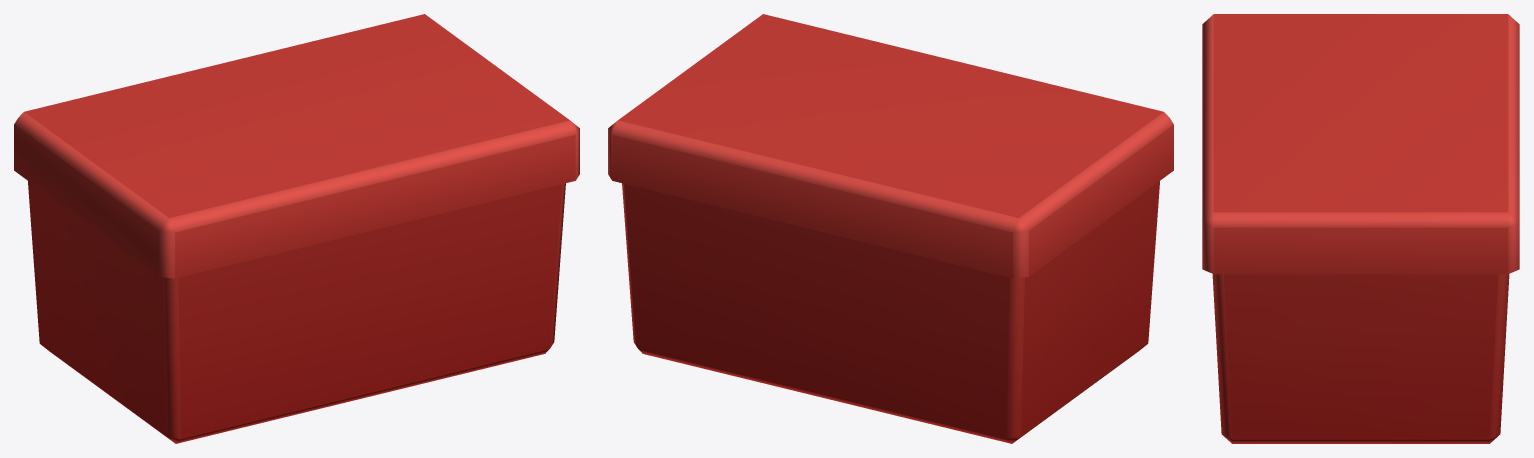
Rendered from giftbox_007.fbx.
3 renders of one model, left to right at view 1: azimuth 30°, elevation 25°; view 2: azimuth 150°, elevation 25°; view 3: azimuth 270°, elevation 25°, orthographic.
Parts seen in each view (by area): view 1: giftbox_007; view 2: giftbox_007; view 3: giftbox_007.
Part boxes in pixels (x1,y1,x2,y2): giftbox_007: (14,14,579,443); giftbox_007: (608,14,1173,443); giftbox_007: (1202,14,1519,443).
Size of the model in its own units: 394 by 254 by 212.
